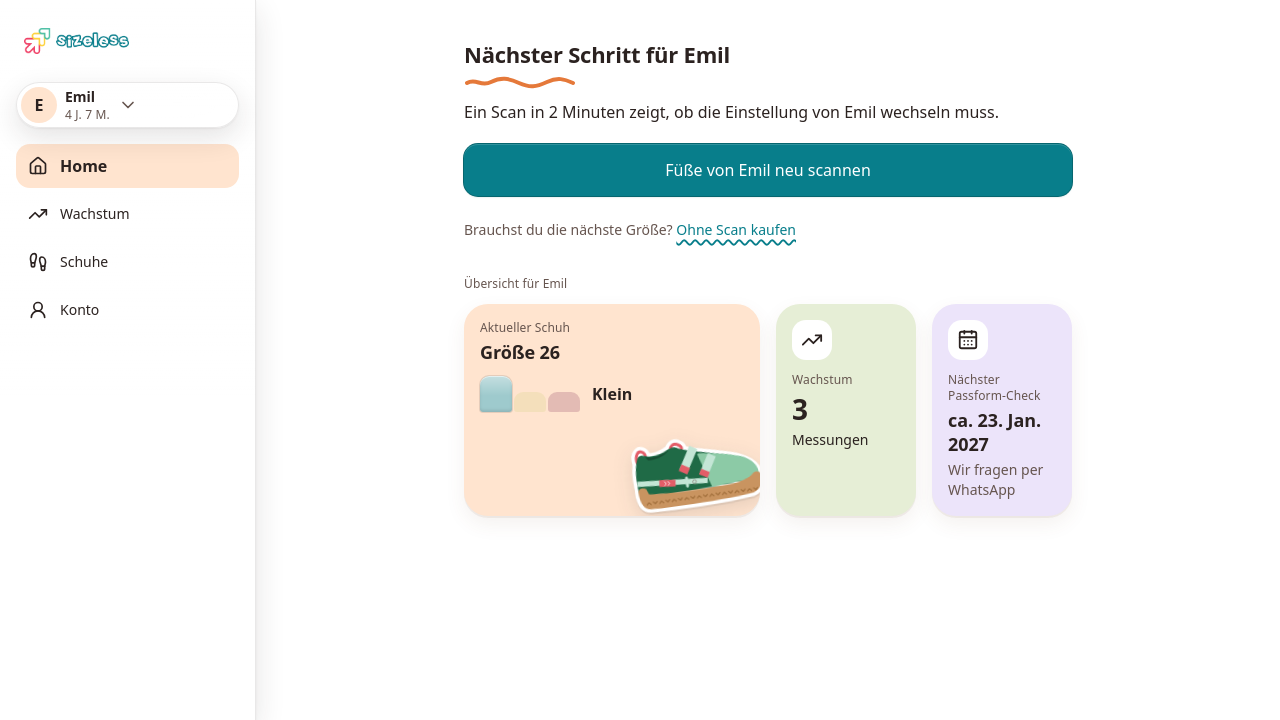
Test: app frame › carries the chosen child from Home to other screens and back
// The sidebar repeats the switcher (hidden by CSS on mobile), so take the first.
Click the button with aria-label "Kind wechseln, Emil ausgewählt" at coordinates (128, 105), box [16,82,239,128]
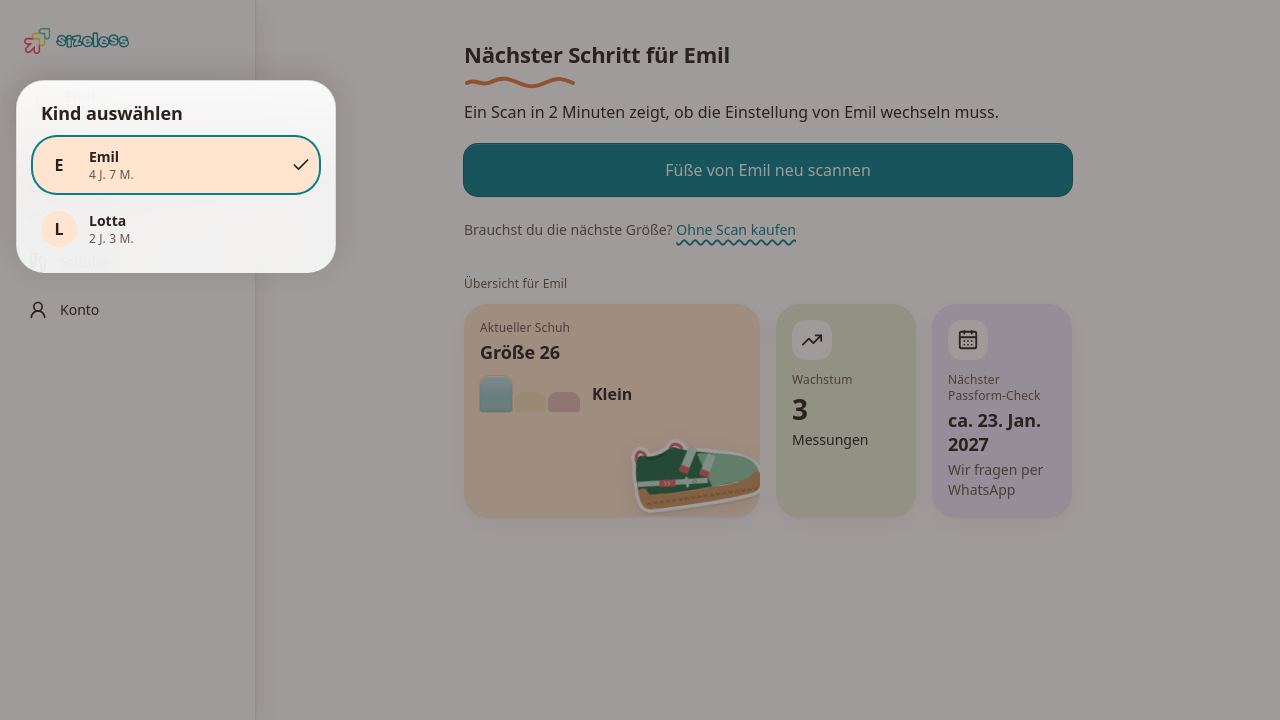
Click the button "L Lotta 2 J. 3 M." at coordinates (59, 229), box [33,201,319,257]
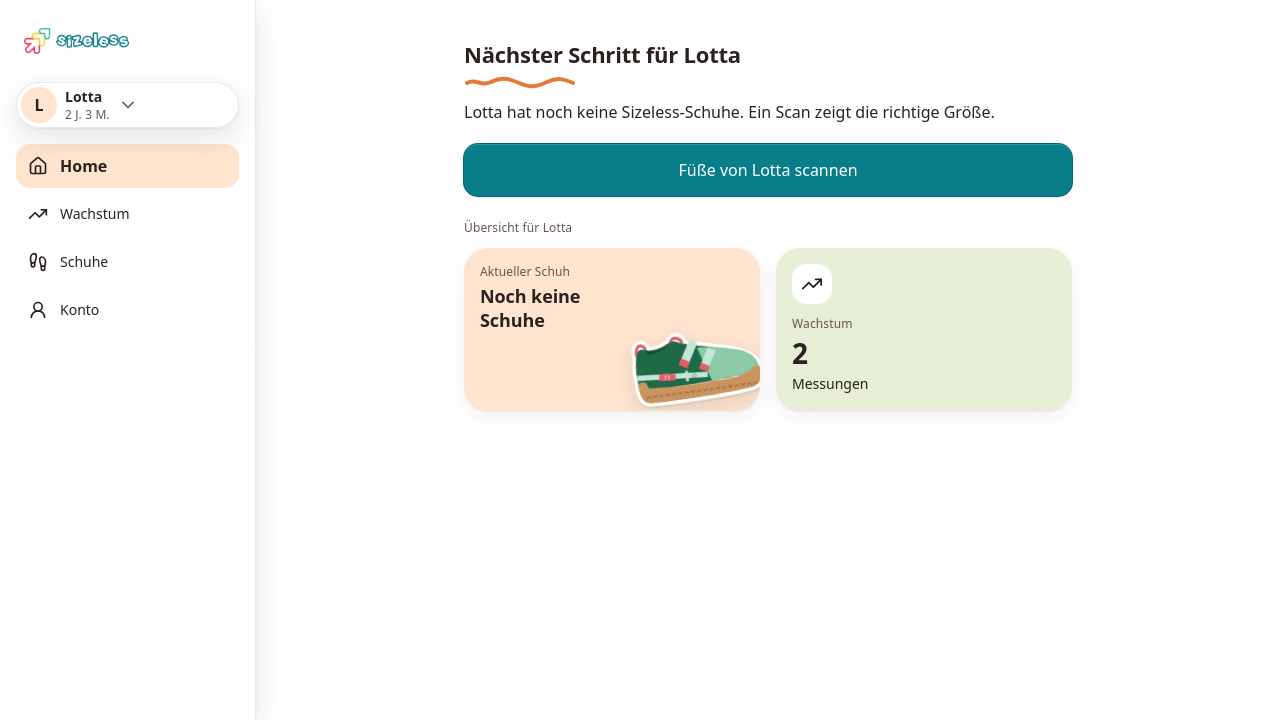
Expected: the dialog is gone
Click the link "Wachstum" at coordinates (79, 214), box [28,204,130,224]
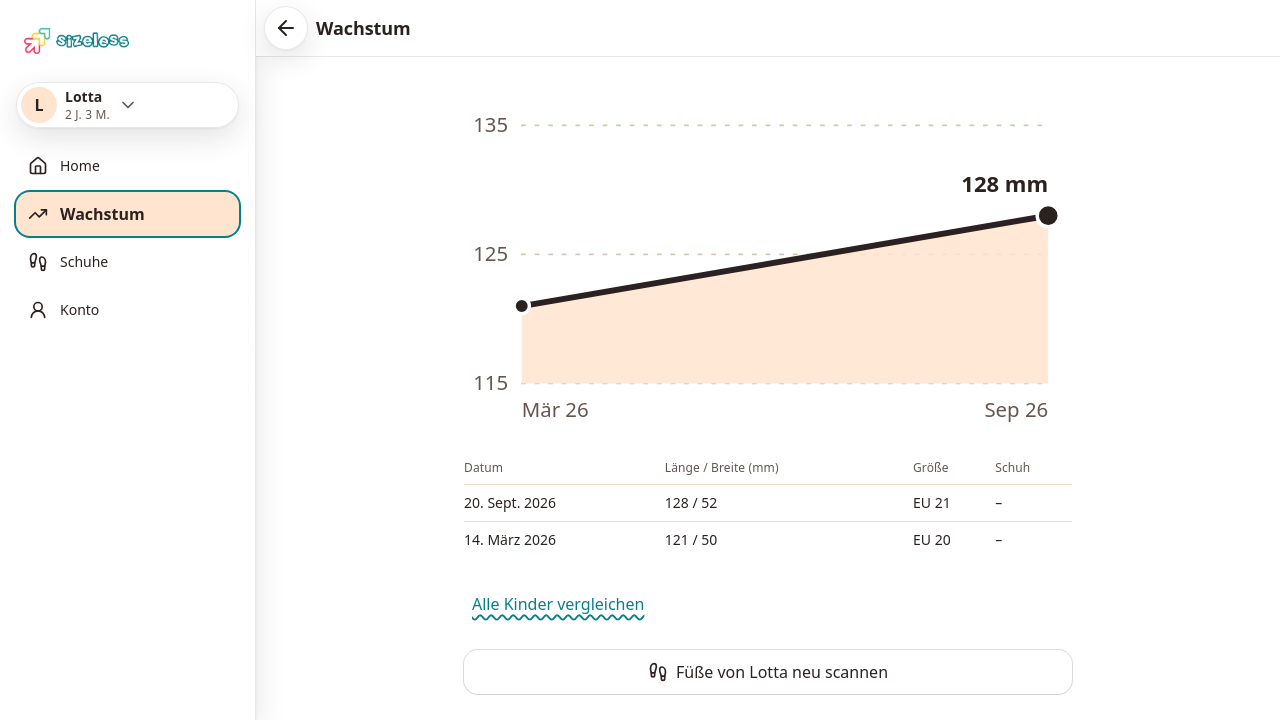
Expected: the heading "Wachstum" is shown, [316,16,410,40]
Expected: the link "Füße von Lotta neu scannen" is shown, [464,650,1072,694]
Click the link named "Zurück zu Home" at coordinates (286, 28), box [264,6,308,50]
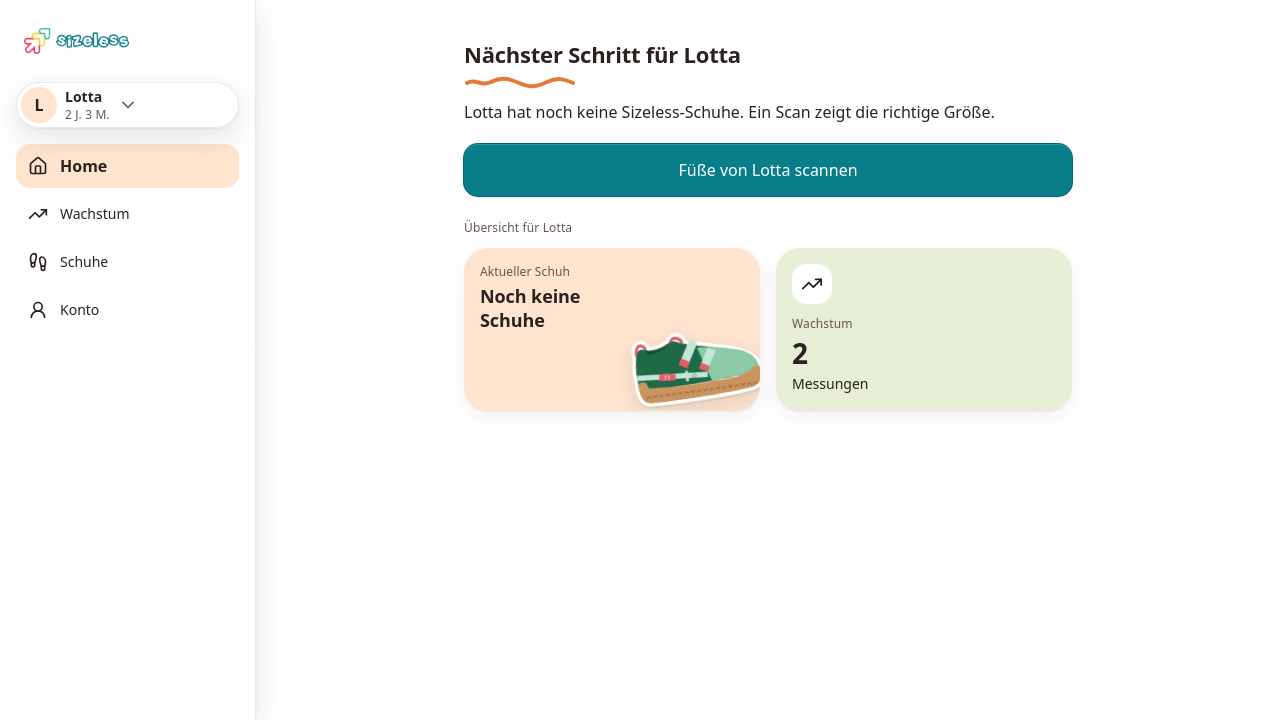
Expected: the link "Füße von Lotta scannen" is shown, [464,144,1072,196]
